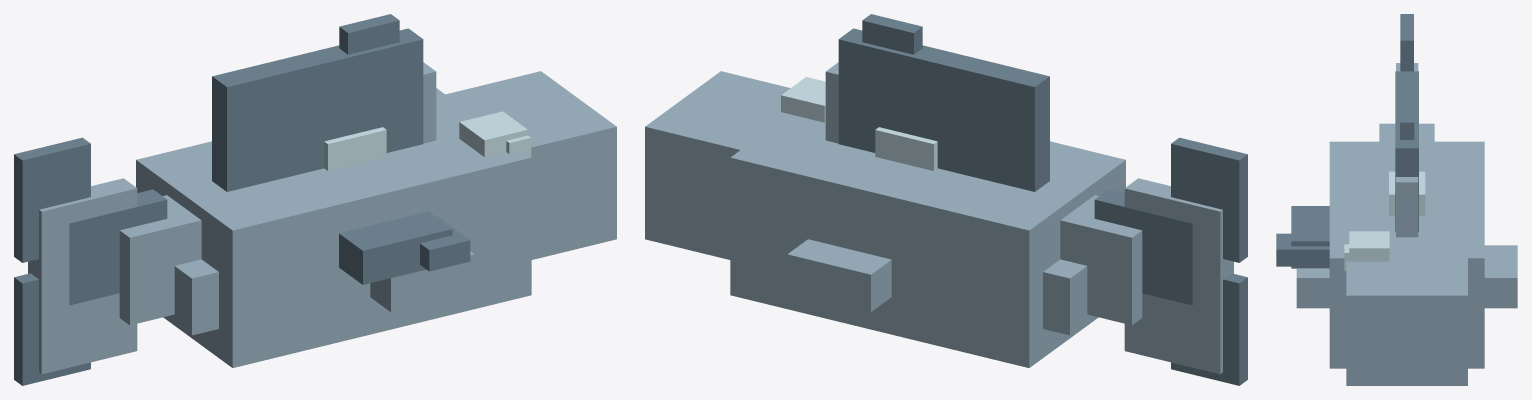
The model's file is fish_rime_herring.glb.
3 renders of one model, left to right at view 1: azimuth 30°, elevation 25°; view 2: azimuth 150°, elevation 25°; view 3: azimuth 270°, elevation 25°, orthographic. The views are drawn at different scales.
Parts seen in each view (by area): view 1: FishArt_body, FishArt_dorsal, FishArt_tail, FishArt_pectoral, FishArt_eye, FishArt_specialty; view 2: FishArt_body, FishArt_dorsal, FishArt_tail, FishArt_specialty, FishArt_eye; view 3: FishArt_body, FishArt_pectoral, FishArt_dorsal, FishArt_eye, FishArt_tail, FishArt_specialty.
Part boxes in pixels (<box>): FishArt_body: <box>28,62,616,374</box>; FishArt_dorsal: <box>212,14,423,191</box>; FishArt_tail: <box>14,137,167,385</box>; FishArt_pectoral: <box>339,211,470,284</box>; FishArt_eye: <box>459,111,531,156</box>; FishArt_specialty: <box>324,127,386,170</box>; FishArt_body: <box>645,62,1233,374</box>; FishArt_dorsal: <box>838,14,1049,191</box>; FishArt_tail: <box>1094,137,1247,385</box>; FishArt_specialty: <box>875,127,937,170</box>; FishArt_eye: <box>781,77,825,122</box>; FishArt_body: <box>1296,63,1517,385</box>; FishArt_pectoral: <box>1276,206,1329,268</box>; FishArt_dorsal: <box>1395,71,1418,231</box>; FishArt_eye: <box>1344,231,1389,270</box>; FishArt_tail: <box>1400,14,1413,71</box>; FishArt_specialty: <box>1389,171,1425,216</box>.
Bounding box in the file's own units: 0.3091 × 0.1442 × 0.1439.
